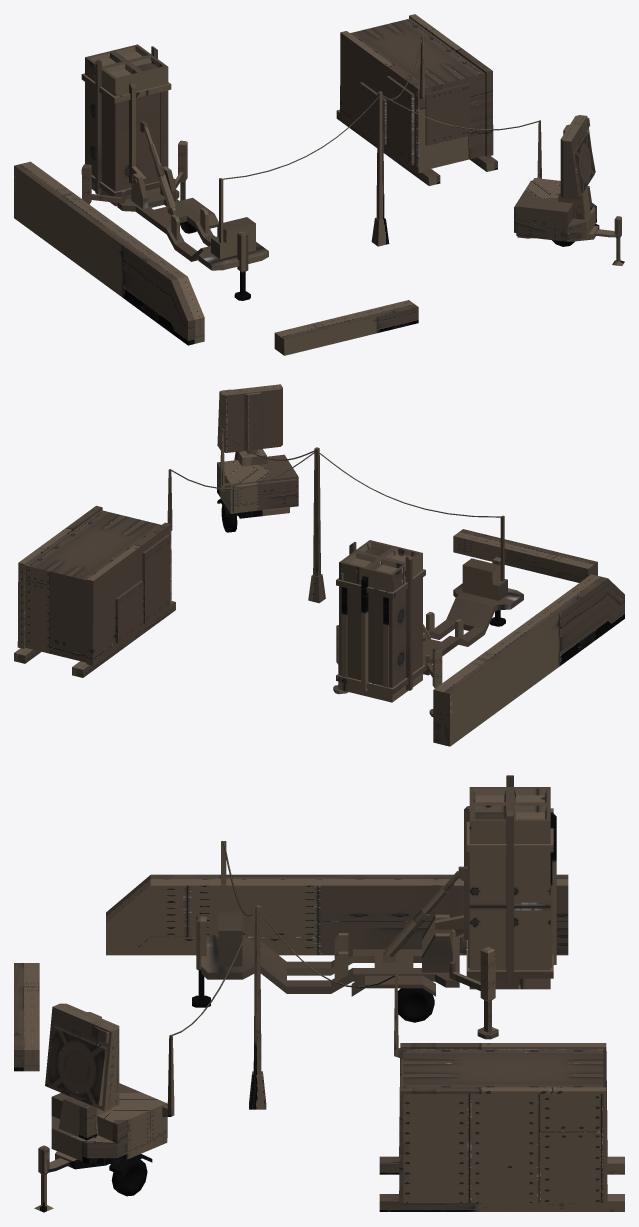
The model's file is AIr_Tower_Lvl2.fbx.
The picture shows the model from 3 angles, top to bottom: view 1: azimuth 30°, elevation 25°; view 2: azimuth 150°, elevation 25°; view 3: azimuth 270°, elevation 25°; orthographic projection. The views are drawn at different scales.
Visible parts, largest first — view 1: Cube.017; view 2: Cube.017; view 3: Cube.017.
Part boxes in pixels (left/top/right/bottom): Cube.017: left=14, top=14, right=624, bottom=355; Cube.017: left=14, top=384, right=624, bottom=746; Cube.017: left=14, top=775, right=624, bottom=1212.
Size of the model in its own units: 7.09 by 2.69 by 7.39.
